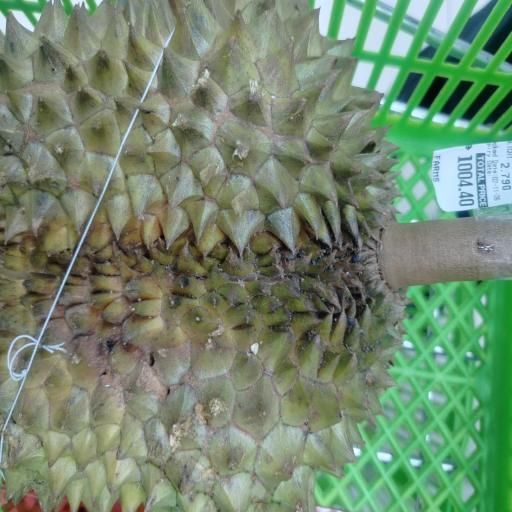rot: (0, 0, 505, 511)
